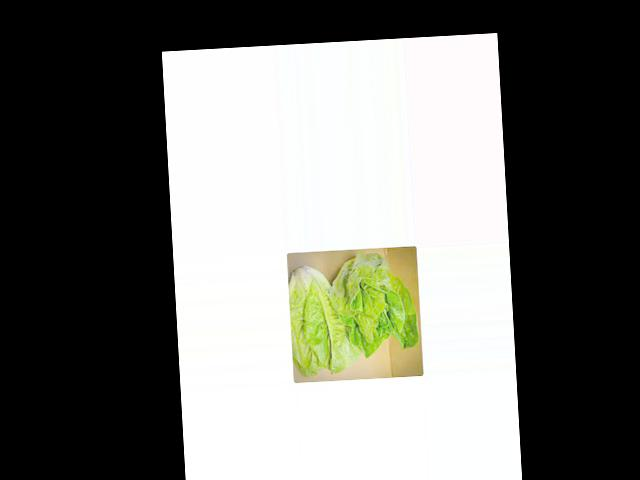lettuce: (291, 263, 403, 369)
